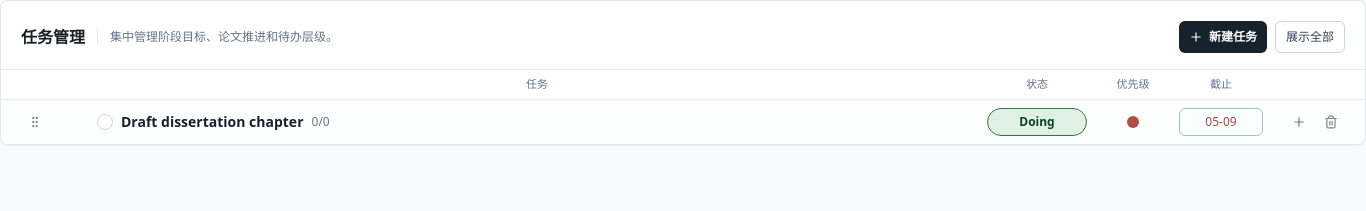
TaskManager › creates a subtask and expands the parent row
Step 1. Click the button named "Add subtask to Draft dissertation chapter" → (1299, 122), box [1285,108,1313,136]
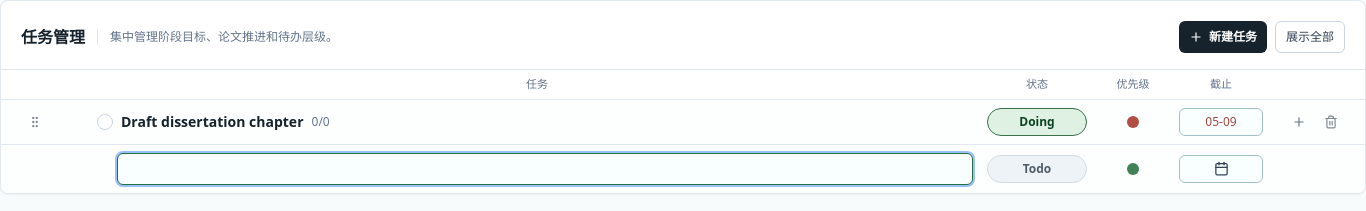
Step 2. Type "Polish abstract" into the field named "New subtask for Draft dissertation chapter" → (545, 168), box [117,152,973,184]
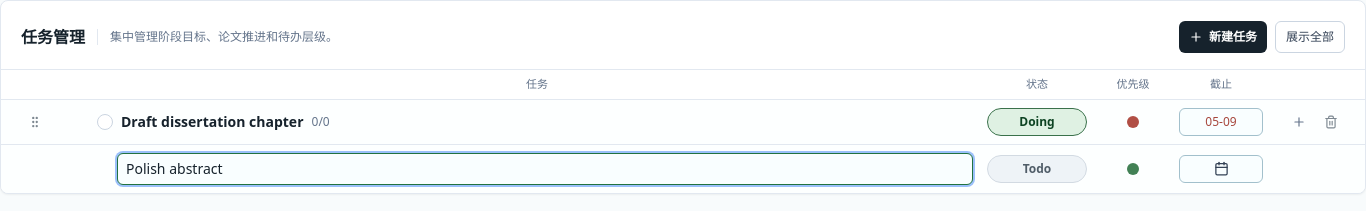
Step 3. Press Enter in the field named "New subtask for Draft dissertation chapter", box [117,152,973,184]
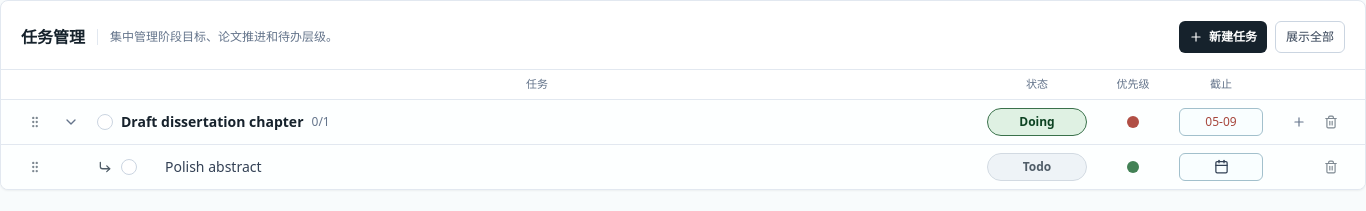
Expected: the button "Polish abstract" is shown, [145,156,262,176]
